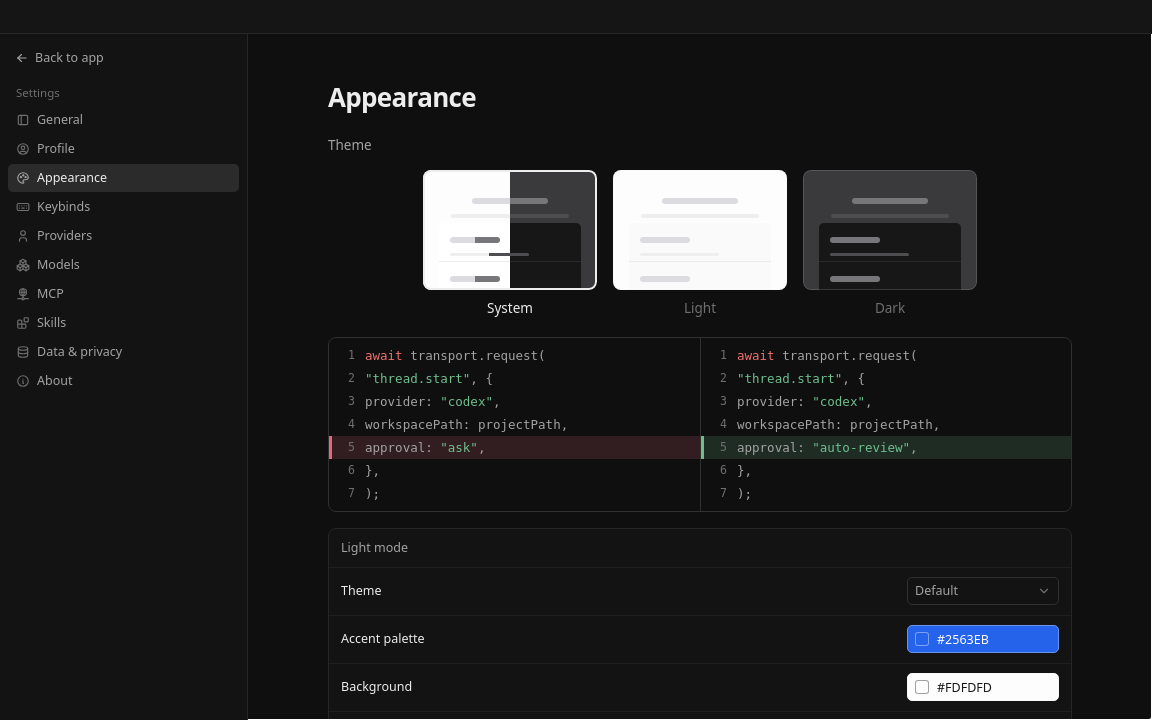
Test case: settings viewport layout › names the foundational preference categories truthfully
This screenshot has width=1152, height=720.
Click the button "General" at coordinates (124, 120), box [8,106,239,134]
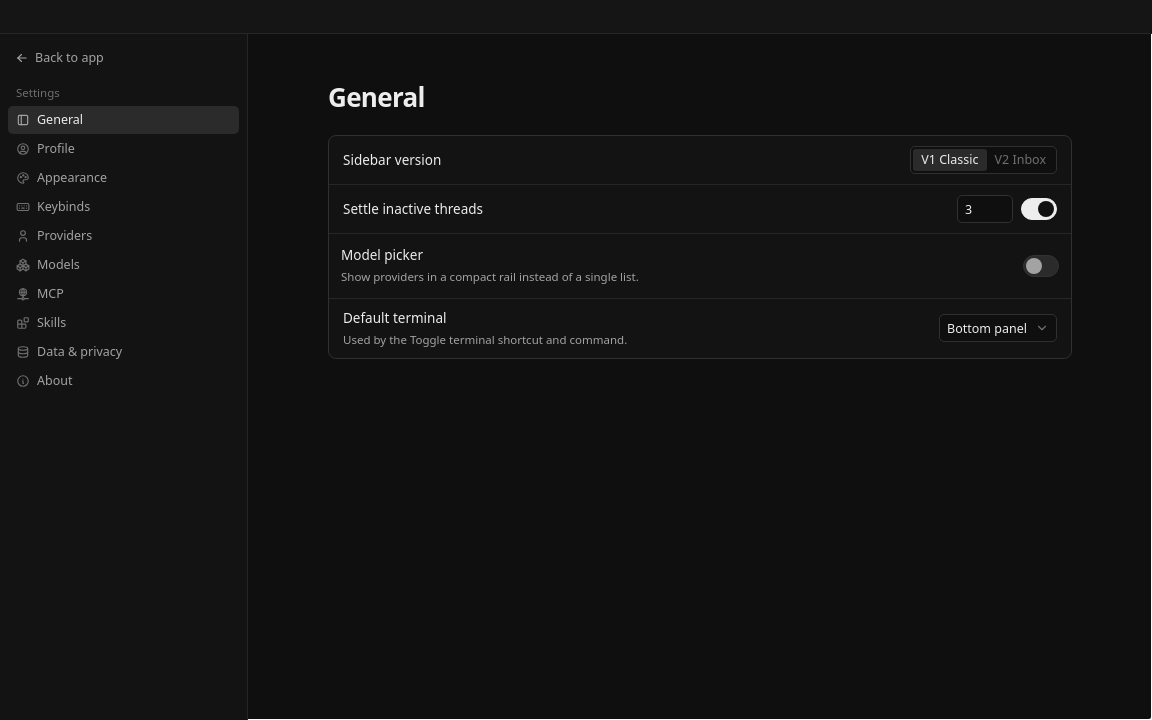
Expected: the heading "General" is shown, [328,79,425,115]
Expected: the switch named "Provider rail layout" is shown, [1023,255,1059,277]
Expected: the dropdown named "Default terminal location" reads "Bottom panel", [939,314,1057,342]
Click the button "Appearance" at coordinates (124, 178), box [8,164,239,192]
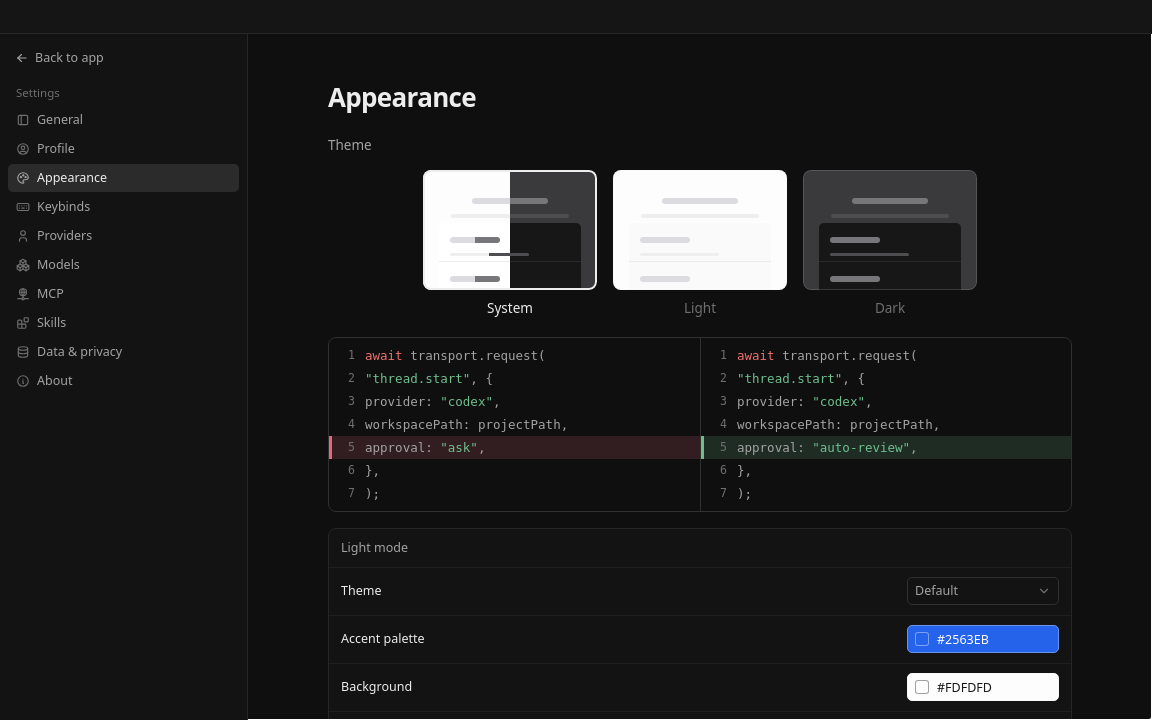
Click the button "Data & privacy" at coordinates (124, 352), box [8,338,239,366]
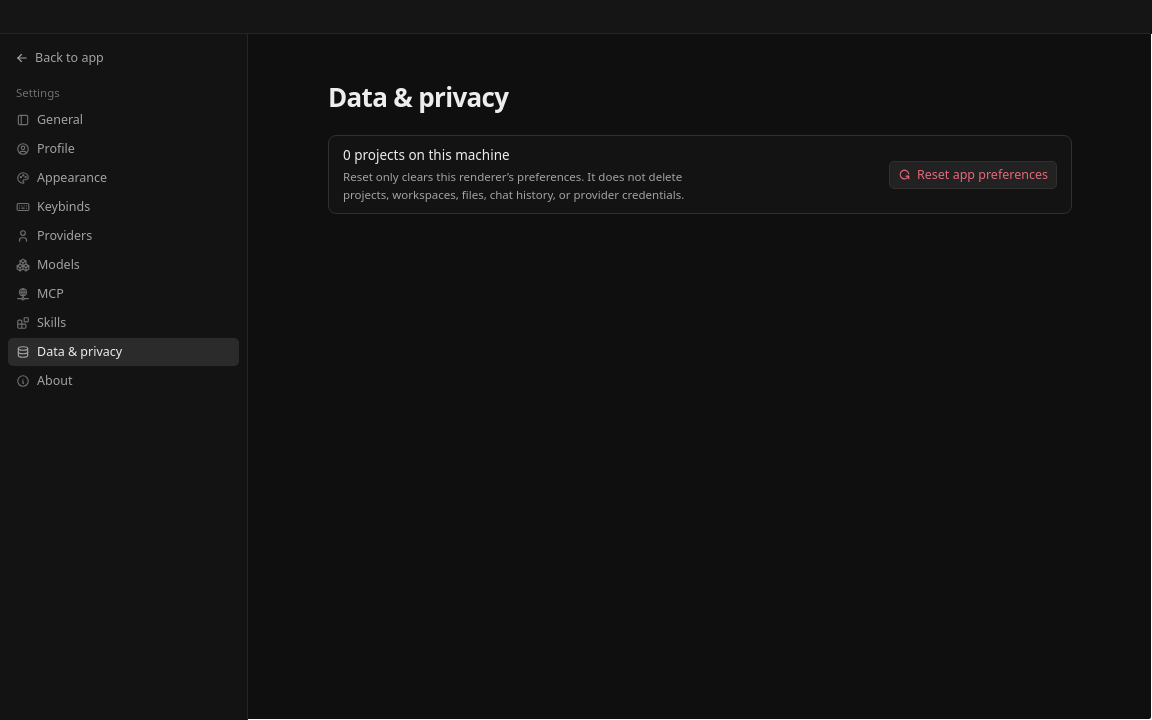
Expected: the heading "Data & privacy" is shown, [328,79,508,115]
